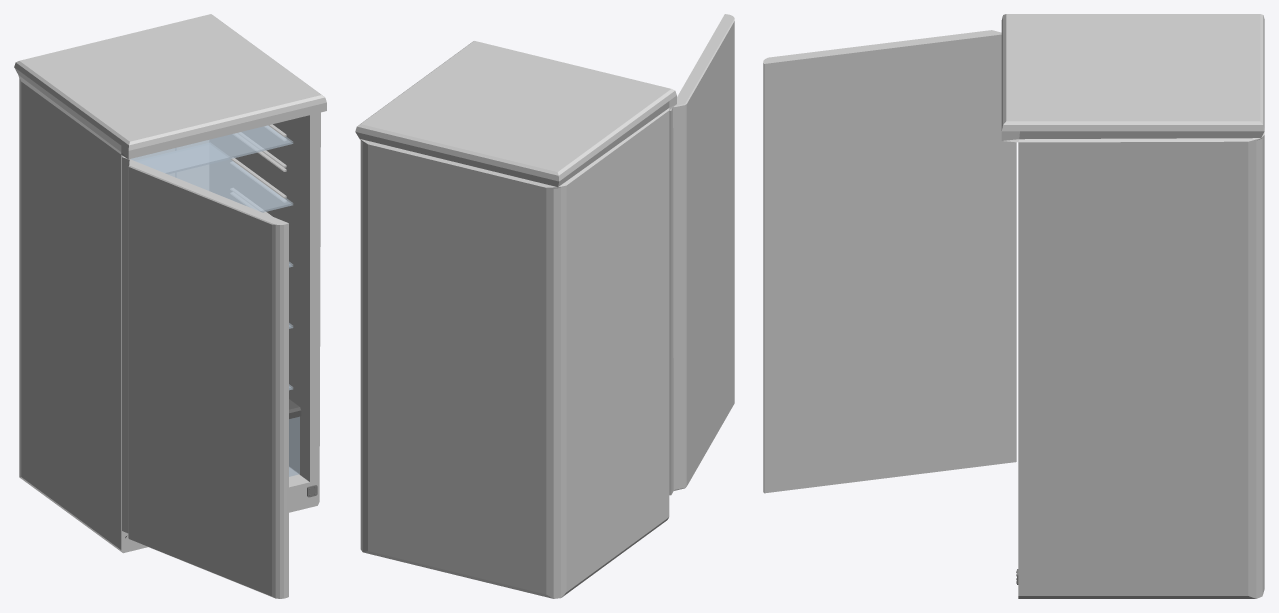
File: Frigo (1).fbx
3 renders of one model, left to right at view 1: azimuth 30°, elevation 25°; view 2: azimuth 150°, elevation 25°; view 3: azimuth 270°, elevation 25°, orthographic. The views are drawn at different scales.
Visible parts, largest first — view 1: Frigo, Séparations.004, Séparations; view 2: Frigo; view 3: Frigo.
Part boxes in pixels (left/top/right/bottom): Frigo: left=14, top=14, right=326, bottom=598; Séparations.004: left=137, top=143, right=293, bottom=212; Séparations: left=130, top=125, right=293, bottom=174; Frigo: left=355, top=14, right=734, bottom=598; Frigo: left=763, top=14, right=1264, bottom=598.
Size of the model in its own units: 206 by 400 by 381.
